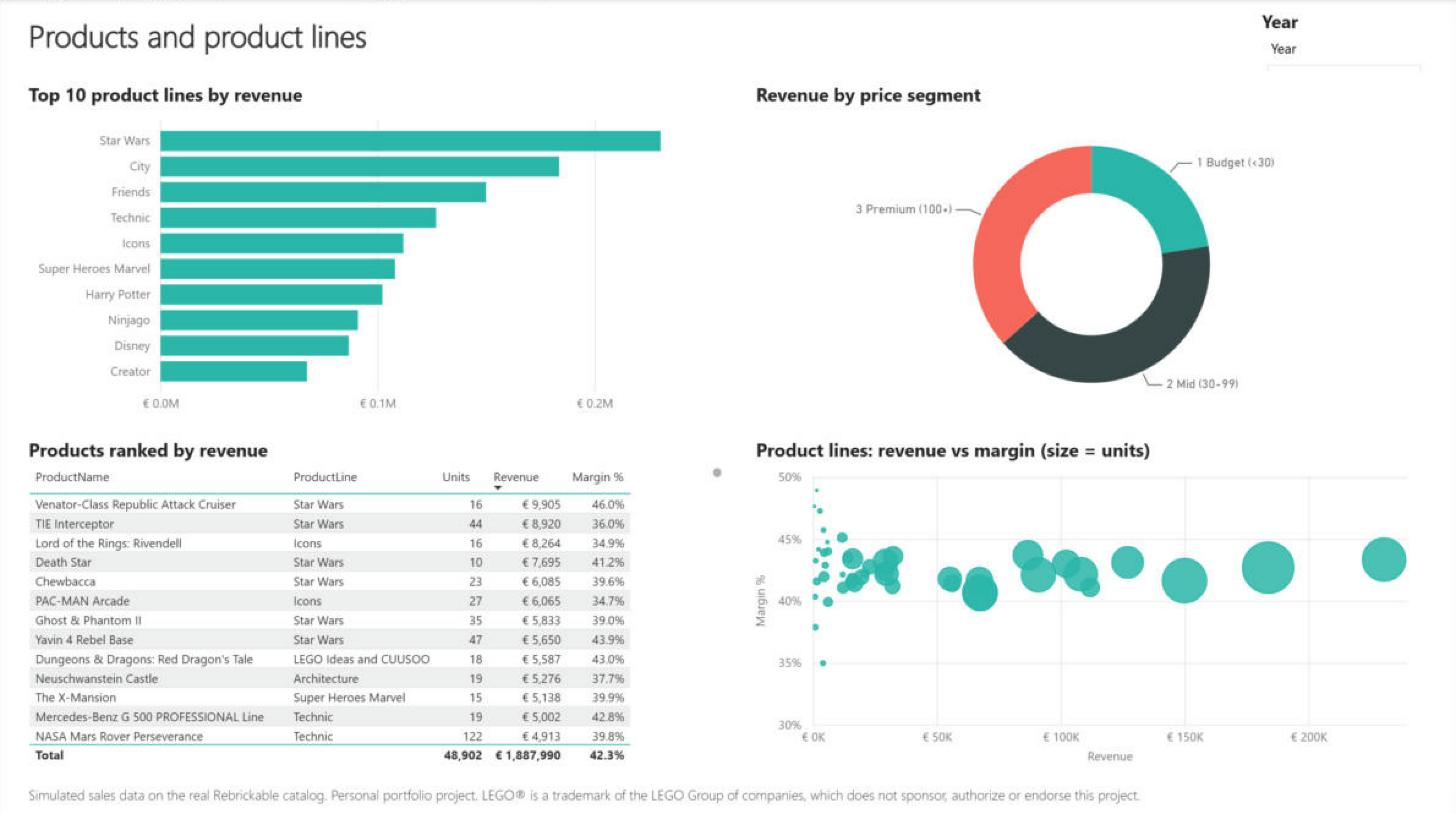

The dashboard page shown, as its layout file describes it:
{"tool":"powerbi","page":{"name":"Products","canvas":[1280,720],"ordinal":1},"visuals":[{"type":"textbox","box":[20,8,900,50],"z":0},{"type":"slicer","title":"Year","fields":{"Values":["Date.Year"]},"box":[1105,8,155,56],"z":1000},{"type":"clusteredBarChart","title":"Top 10 product lines by revenue","fields":{"Category":["vw_SalesLines.ProductLine"],"Y":["vw_SalesLines.Revenue Top 10 Lines"]},"box":[20,72,620,300],"z":2000},{"type":"donutChart","title":"Revenue by price segment","fields":{"Category":["vw_SalesLines.Price Segment"],"Y":["vw_SalesLines.Revenue"]},"box":[660,72,600,300],"z":3000},{"type":"tableEx","title":"Products ranked by revenue","fields":{"Values":["vw_SalesLines.ProductName","vw_SalesLines.ProductLine","vw_SalesLines.Units","vw_SalesLines.Revenue","vw_SalesLines.Margin %"]},"box":[20,385,620,292],"z":4000},{"type":"scatterChart","title":"Product lines: revenue vs margin (size = units)","fields":{"Category":["vw_SalesLines.ProductLine"],"Size":["vw_SalesLines.Units"],"X":["vw_SalesLines.Revenue"],"Y":["vw_SalesLines.Margin %"]},"box":[660,385,600,292],"z":5000},{"type":"textbox","box":[20,684,1100,30],"z":6000}]}

Visuals, with their boxes in screenshot pixels (x1, y1, x2, y2), scaled from the page's 1280x720 canvas onto the 1456x814 screenshot:
textbox: [23, 9, 1046, 66]
"Year" slicer: [1257, 9, 1433, 72]
"Top 10 product lines by revenue" clusteredBarChart: [23, 81, 728, 421]
"Revenue by price segment" donutChart: [751, 81, 1433, 421]
"Products ranked by revenue" tableEx: [23, 435, 728, 765]
"Product lines: revenue vs margin (size = units)" scatterChart: [751, 435, 1433, 765]
textbox: [23, 773, 1274, 807]
